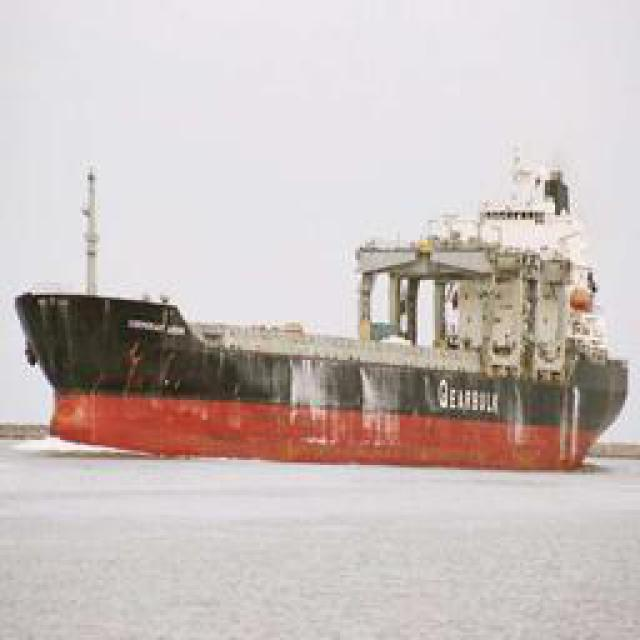Ship: (20, 170, 630, 465)
